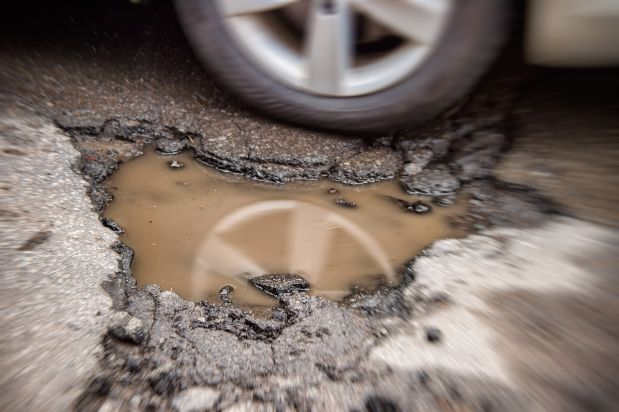pothole: (55, 112, 483, 329)
